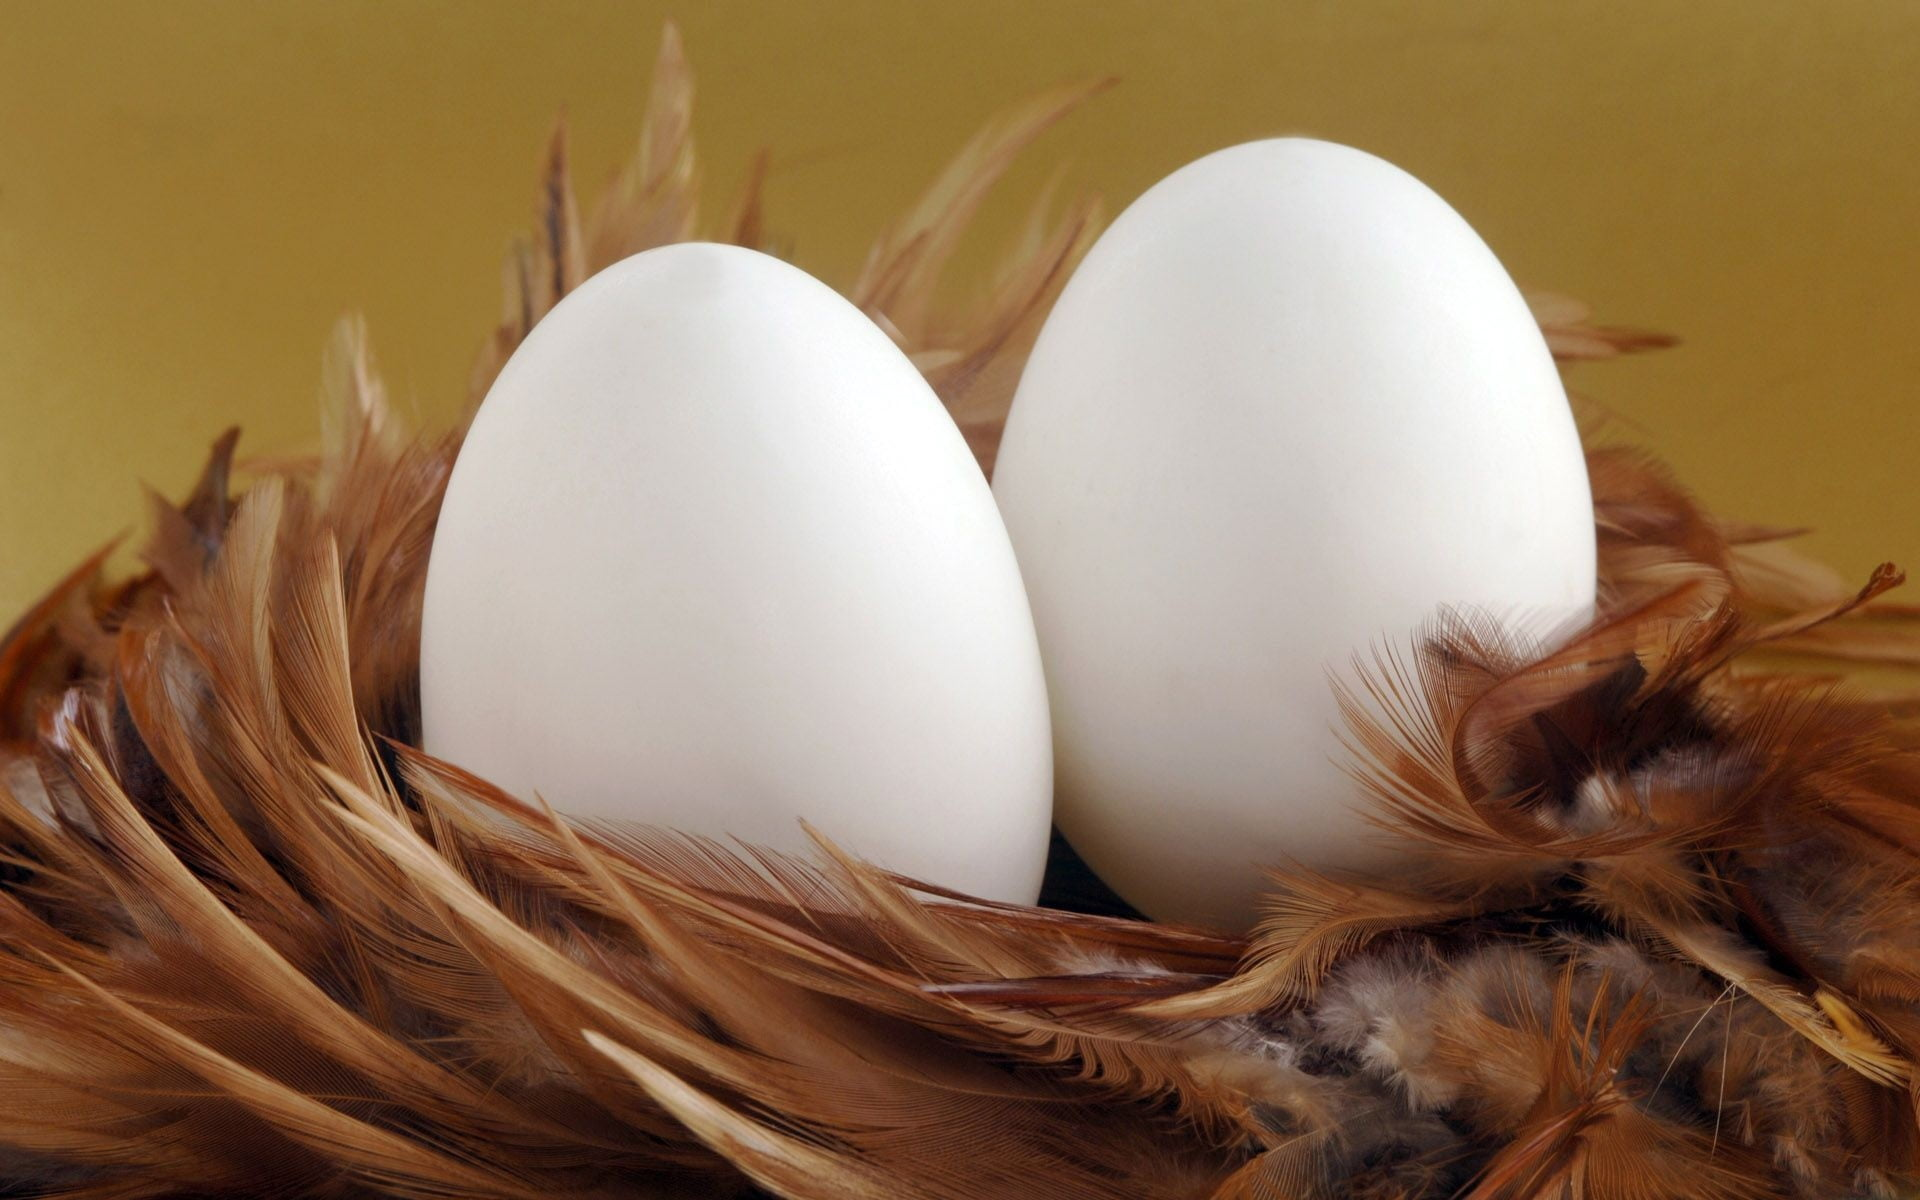Egg: (987, 95, 1615, 982)
